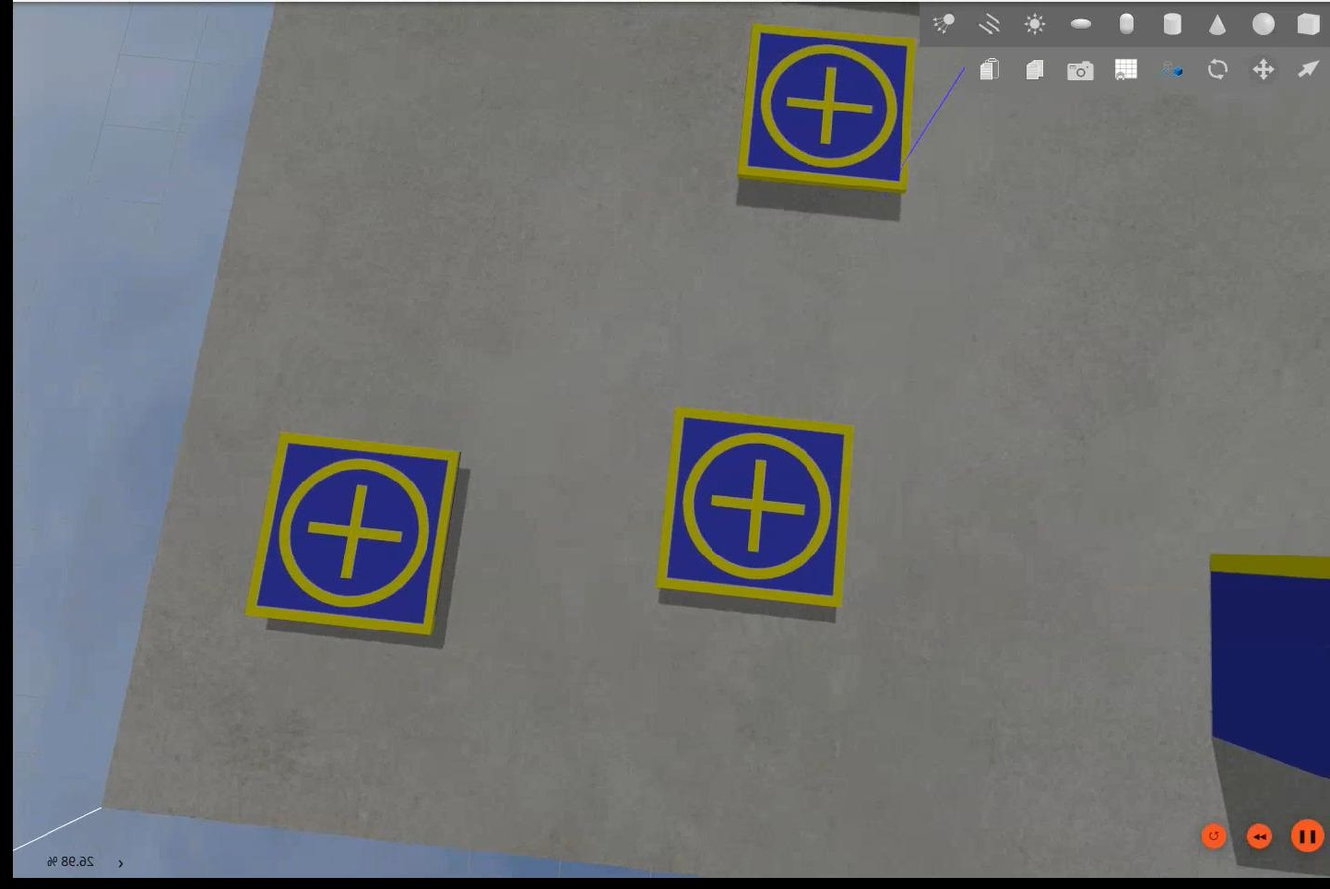small_base: (241, 433, 461, 637), (651, 406, 853, 610), (732, 27, 915, 196)
